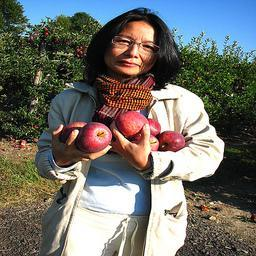apple: (76, 122, 111, 152), (115, 111, 148, 138), (155, 130, 184, 152), (145, 118, 160, 135)
